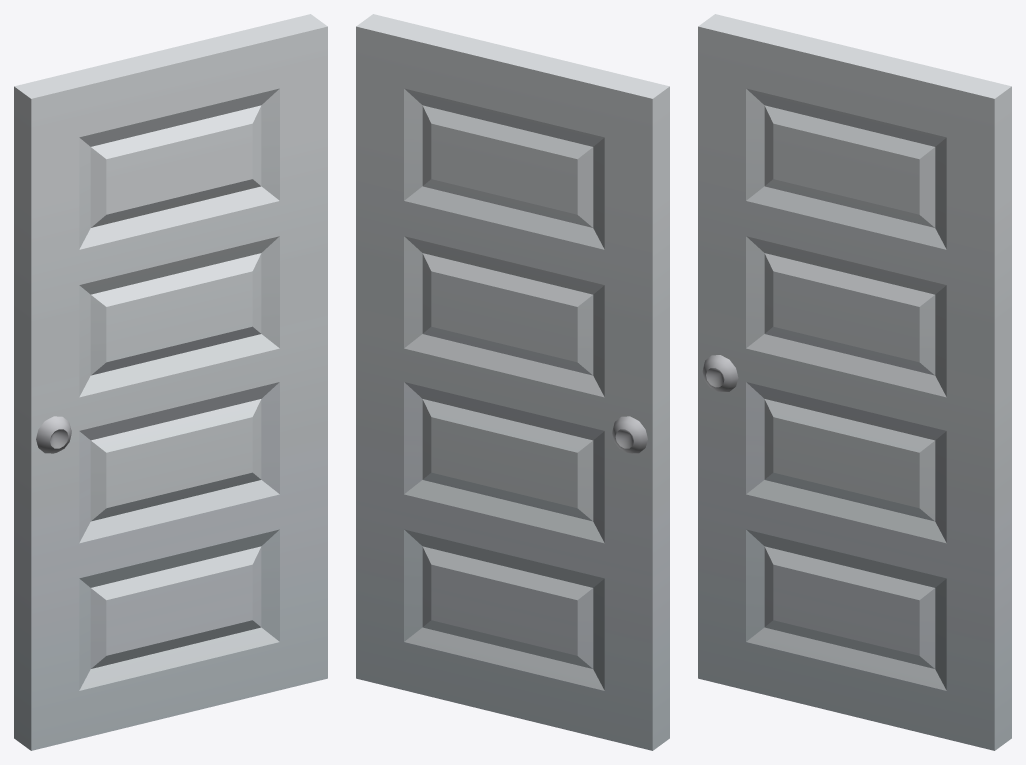
The model's file is Door_White_04.glb.
The picture shows the model from 3 angles, left to right: view 1: azimuth 30°, elevation 25°; view 2: azimuth 150°, elevation 25°; view 3: azimuth 330°, elevation 25°; orthographic projection.
Visible parts, largest first — view 1: Door_White_04; view 2: Door_White_04; view 3: Door_White_04.
Part boxes in pixels (x1,y1,x2,y2): Door_White_04: [14, 14, 327, 750]; Door_White_04: [356, 14, 669, 750]; Door_White_04: [698, 14, 1011, 750].
Size of the model in its own units: 1 by 2.1 by 0.1634.
Materials: 1 (1 with a texture image).
